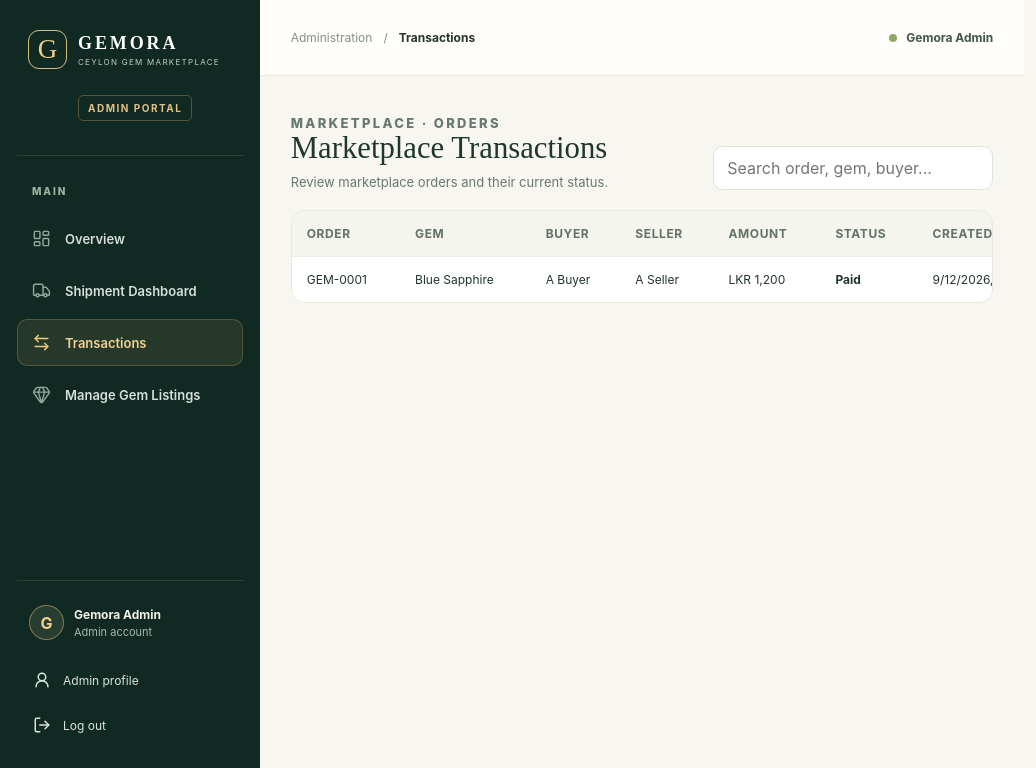
Test: keeps transaction data and search working inside the Admin shell
Expected: the text "GEM-0001" is shown, [292,256,400,302]
Type "unknown" into the field named "Search transactions" at (853, 168), box [713,146,993,190]
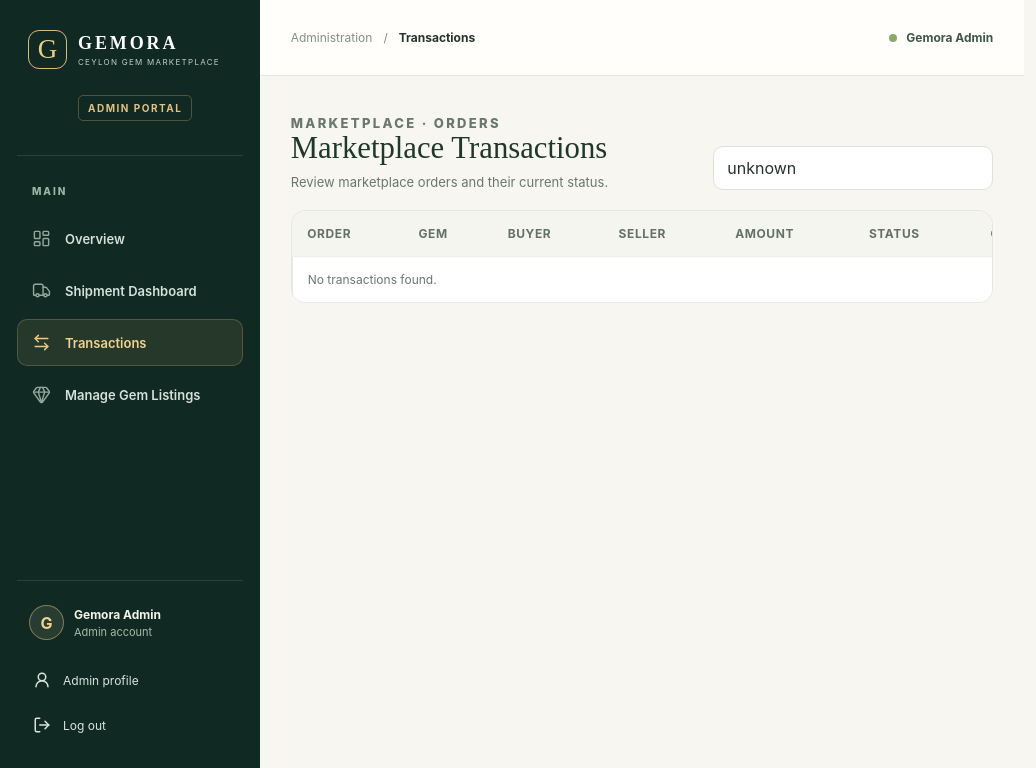
Expected: the text "No transactions found." is shown, [292,256,993,302]
Replace the text in the field named "Search transactions" with "sapphire" at (853, 168), box [713,146,993,190]
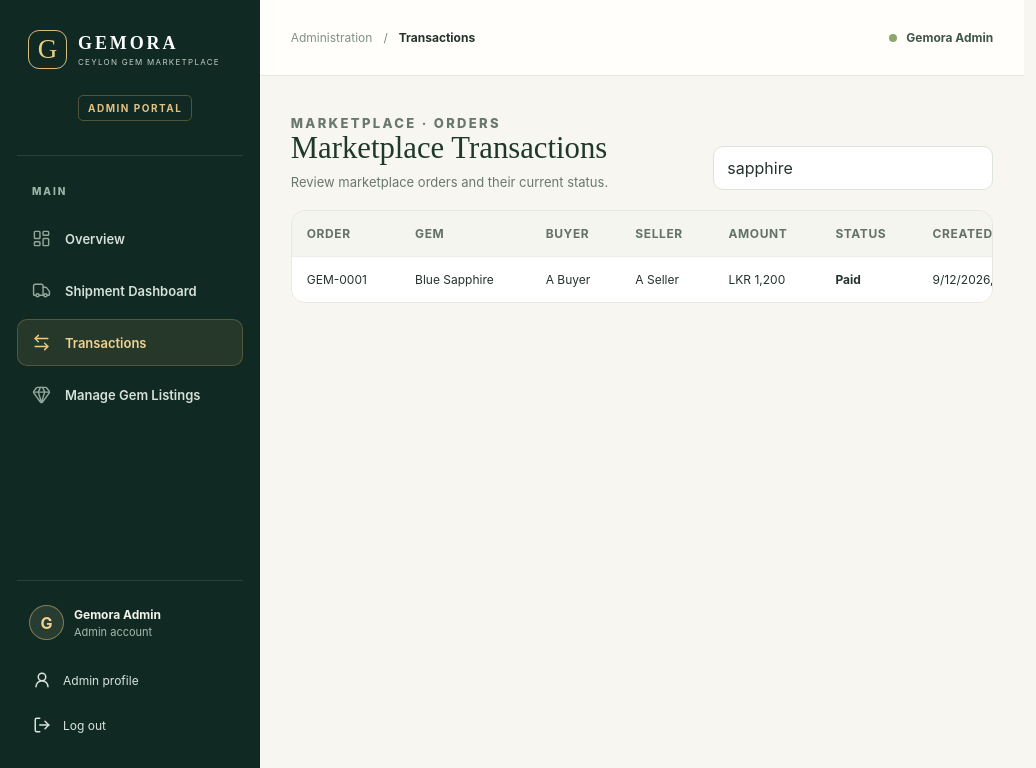
Expected: the text "GEM-0001" is shown, [292,256,400,302]
